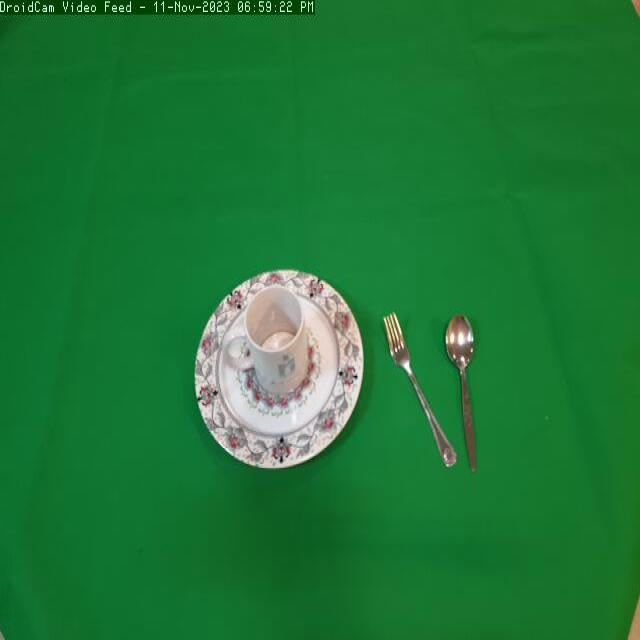cup: (223, 284, 312, 399)
fork: (379, 292, 468, 478)
plate: (192, 261, 376, 488)
spoon: (441, 303, 496, 478)
